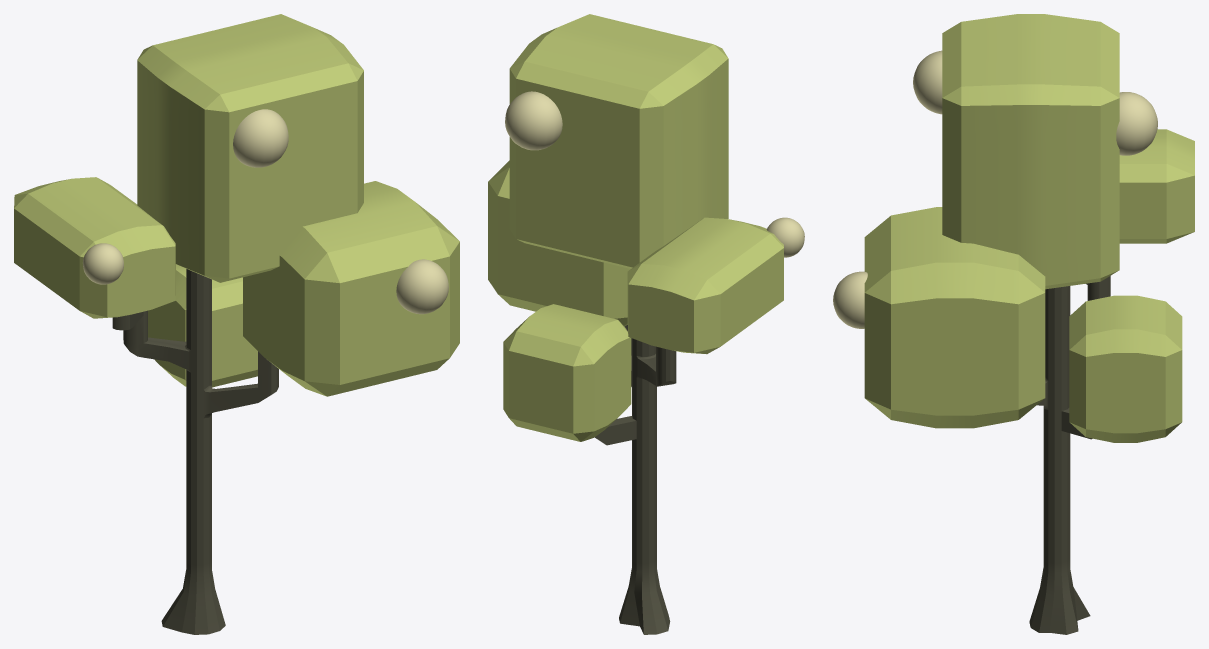
Rendered from HighTree2Apple.fbx.
The picture shows the model from 3 angles, left to right: view 1: azimuth 30°, elevation 25°; view 2: azimuth 150°, elevation 25°; view 3: azimuth 270°, elevation 25°; orthographic projection. The views are drawn at different scales.
Parts seen in each view (by area): view 1: pasted__Crown_Big1, pasted__Crown_Sml3, pasted__Crown_Sml1, pasted__Bark2, pasted__Crown_Sml2, pasted__pasted__pSphere17, pasted__pSphere18, pSphere18; view 2: pasted__Crown_Big1, pasted__Crown_Sml1, pasted__Crown_Sml2, pasted__Crown_Sml3, pasted__Bark2, pasted__pSphere17, pSphere18; view 3: pasted__Crown_Big1, pasted__Crown_Sml3, pasted__Crown_Sml2, pasted__Bark2, pasted__Crown_Sml1, pasted__pSphere17, pasted__pSphere18, pasted__pasted__pSphere17.
Part boxes in pixels (x1,y1,x2,y2): pasted__Crown_Big1: [137, 14, 363, 282]; pasted__Crown_Sml3: [243, 181, 459, 396]; pasted__Crown_Sml1: [14, 177, 175, 318]; pasted__Bark2: [112, 269, 278, 634]; pasted__Crown_Sml2: [148, 264, 257, 387]; pasted__pasted__pSphere17: [233, 109, 288, 167]; pasted__pSphere18: [396, 259, 448, 314]; pSphere18: [83, 243, 123, 284]; pasted__Crown_Big1: [509, 14, 728, 268]; pasted__Crown_Sml1: [627, 217, 783, 354]; pasted__Crown_Sml2: [503, 304, 631, 441]; pasted__Crown_Sml3: [488, 160, 630, 326]; pasted__Bark2: [595, 325, 676, 634]; pasted__pSphere17: [505, 91, 562, 150]; pSphere18: [766, 217, 804, 257]; pasted__Crown_Big1: [942, 14, 1119, 289]; pasted__Crown_Sml3: [864, 207, 1045, 428]; pasted__Crown_Sml2: [1069, 295, 1182, 442]; pasted__Bark2: [1029, 276, 1110, 634]; pasted__Crown_Sml1: [1119, 129, 1194, 243]; pasted__pSphere17: [1116, 92, 1157, 155]; pasted__pSphere18: [833, 271, 867, 328]; pasted__pasted__pSphere17: [913, 50, 942, 114].
Size of the model in its own units: 3.98 by 6.84 by 3.77.
